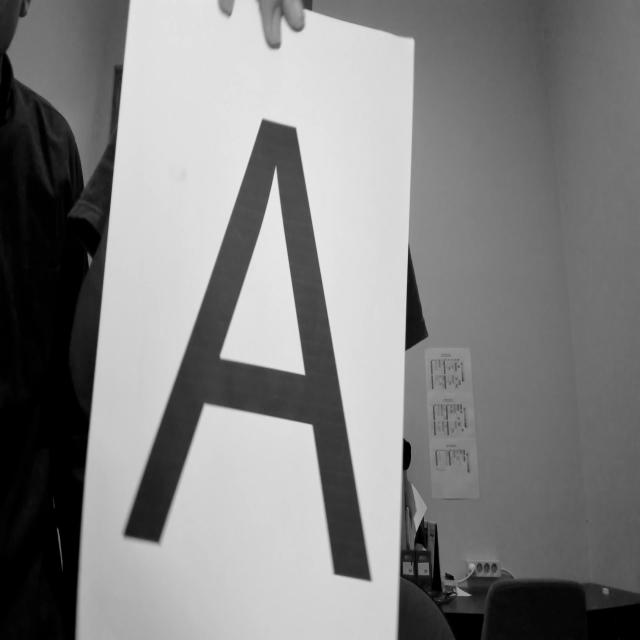a: (107, 81, 395, 597)
